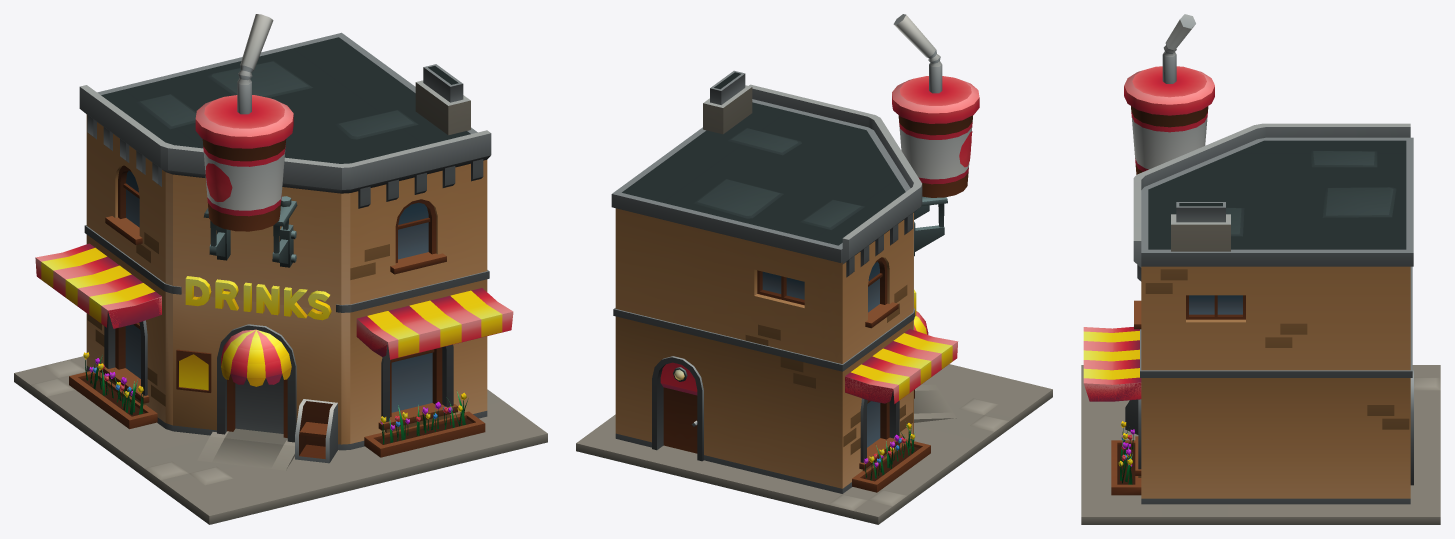
The model's file is Building_18A.fbx.
3 renders of one model, left to right at view 1: azimuth 30°, elevation 25°; view 2: azimuth 150°, elevation 25°; view 3: azimuth 270°, elevation 25°, orthographic. The views are drawn at different scales.
Parts seen in each view (by area): view 1: Building_18A, Canopy_18A_R, Canopy_18A_L; view 2: Building_18A, Canopy_18A_L; view 3: Building_18A, Canopy_18A_R.
Boxes of the visible parts, x1,y1,x2,y2 form: Building_18A: [14, 14, 547, 524]; Canopy_18A_R: [356, 288, 513, 359]; Canopy_18A_L: [35, 243, 161, 328]; Building_18A: [576, 14, 1052, 524]; Canopy_18A_L: [845, 329, 958, 403]; Building_18A: [1081, 14, 1440, 524]; Canopy_18A_R: [1083, 327, 1141, 401].
Size of the model in its own units: 12 by 15.01 by 12.
Materials: 1 (1 with a texture image).
